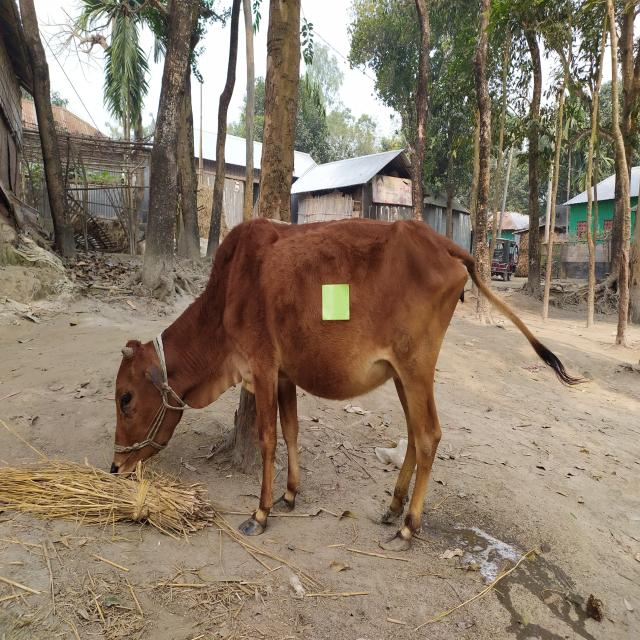badan_sapi: (227, 217, 467, 406)
sapi: (91, 205, 586, 560)
